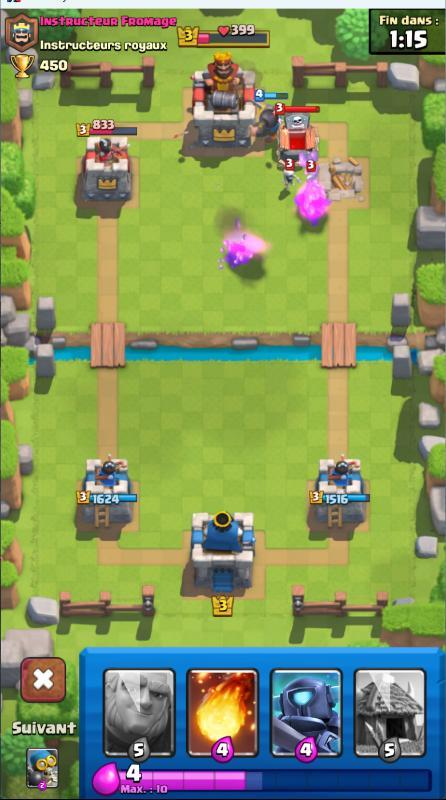enemy_skeletons: (280, 158, 298, 189)
enemy_tombstone: (273, 104, 323, 165)
player_knight: (253, 89, 283, 139)
